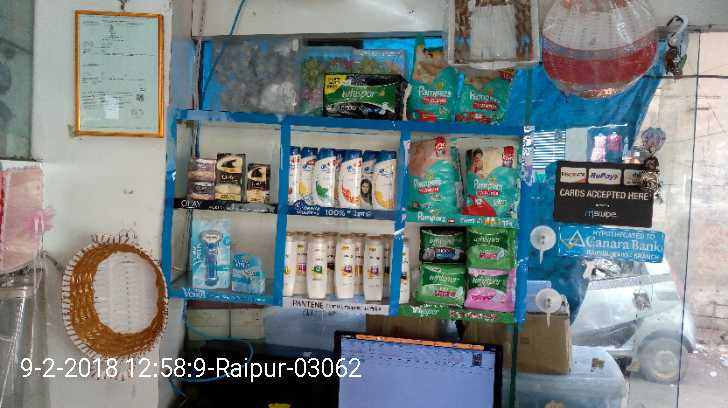venus: (193, 220, 228, 289), (229, 252, 262, 290)
